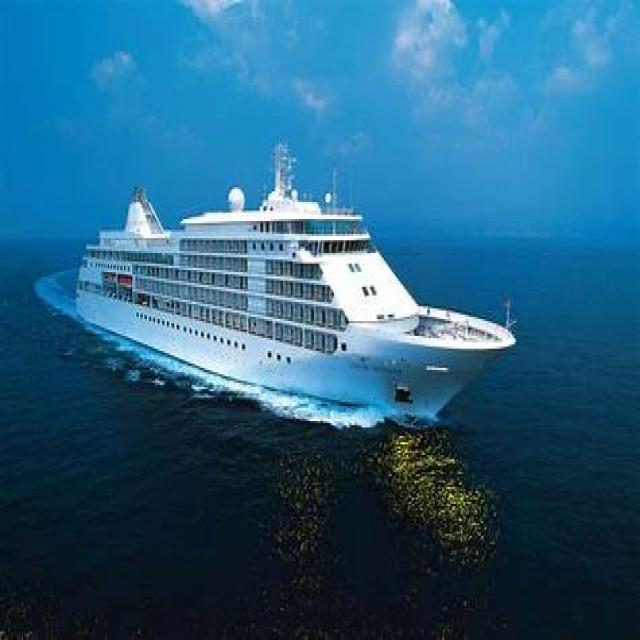PassengerShip: (56, 113, 488, 463)
